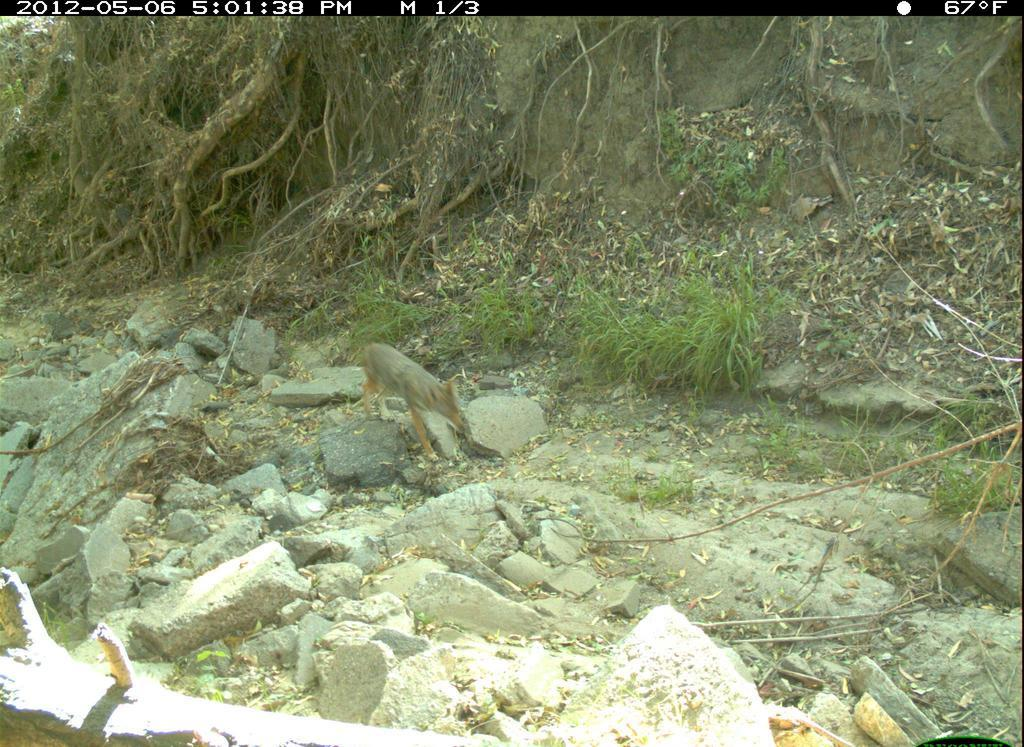coyote: (344, 323, 484, 473)
